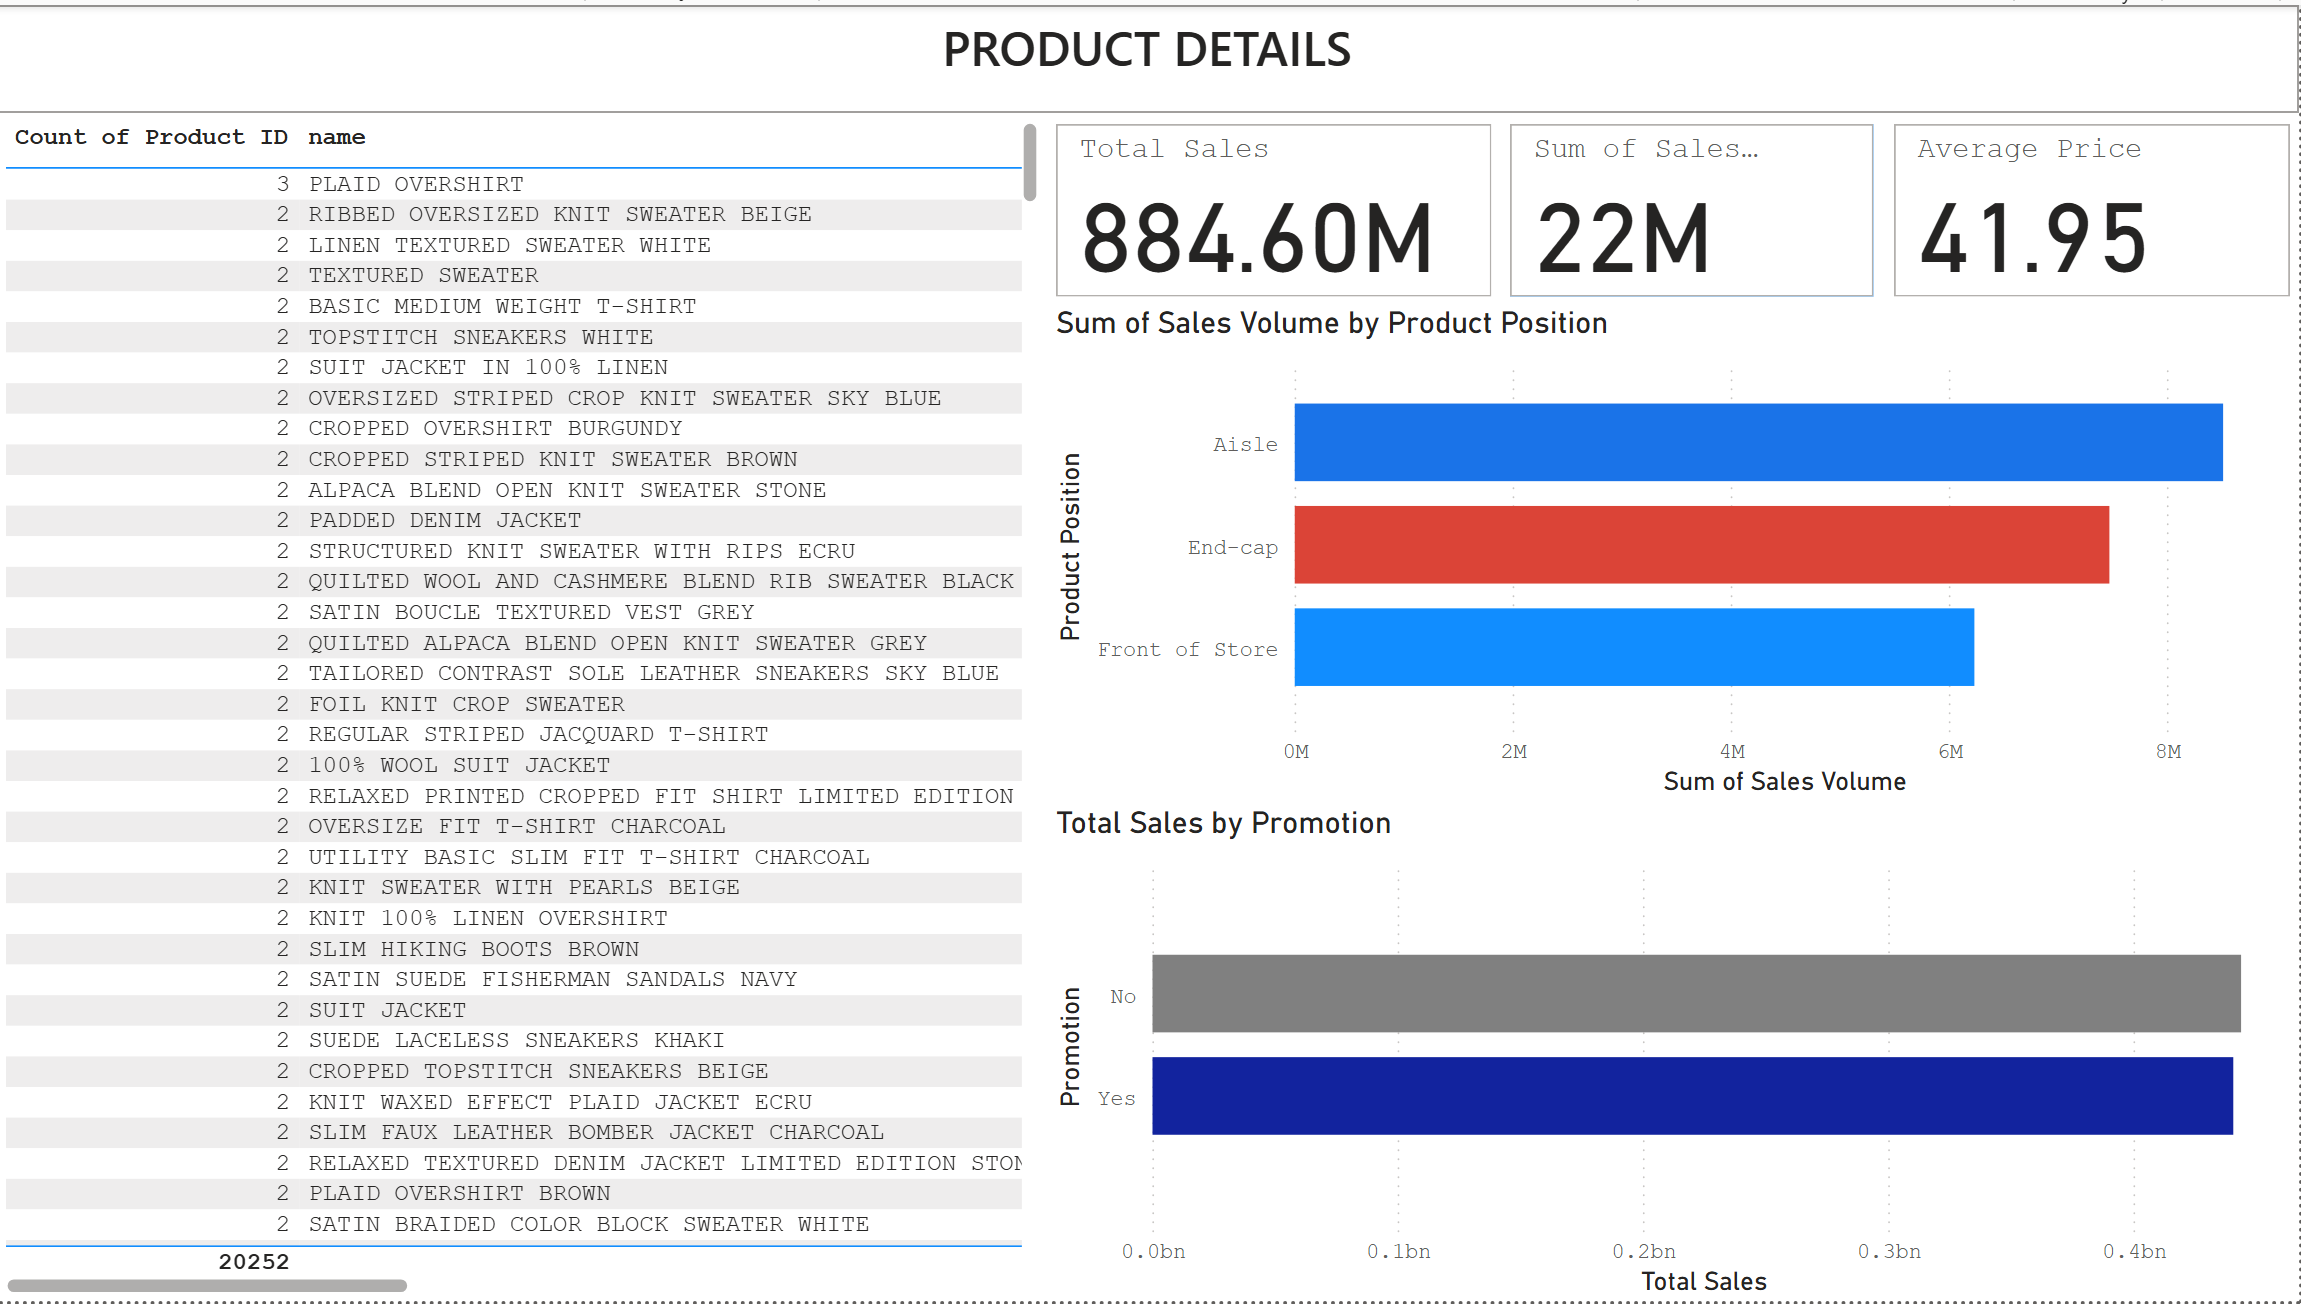

What the dashboard file says about the page in this screenshot:
{"tool":"powerbi","page":{"name":"PRODUCT DETAILS","canvas":[1280,720],"ordinal":0},"visuals":[{"type":"textbox","box":[0,0,1280,60.1],"z":2000},{"type":"cardVisual","fields":{"Data":["Sales.Total Sales"]},"box":[584.3,60.7,252.5,106.5],"z":3000},{"type":"cardVisual","fields":{"Data":["Sales.Average Price"]},"box":[1049.7,60.7,230.3,106.5],"z":4000},{"type":"tableEx","fields":{"Values":["CountNonNull(Sales.Product ID)","Sales.name","Sales.Product Category","Sales.brand","Sales.Product Position","Sales.Promotion","Sum(Sales.price)","Sum(Sales.Sales Volume)","Sales.Total Sales"]},"box":[0,60.1,584.4,661.1],"z":5000},{"type":"cardVisual","fields":{"Data":["Sum(Sales.Sales Volume)"]},"box":[836.8,60.7,212.9,106.5],"z":6000},{"type":"barChart","fields":{"Y":["Sum(Sales.Sales Volume)"],"Category":["Sales.Product Position"]},"box":[584.3,167.1,695.7,277.3],"z":7000},{"type":"barChart","fields":{"Y":["Sales.Total Sales"],"Category":["Sales.Promotion"]},"box":[584.3,444.4,695.7,277.3],"z":8000}]}

Visuals, with their boxes in screenshot pixels (x1, y1, x2, y2), scaled from the page's 1280x720 canvas onto the 2301x1304 screenshot:
textbox: (0, 0, 2300, 109)
cardVisual - Sales.Total Sales: (1050, 110, 1504, 303)
cardVisual - Sales.Average Price: (1887, 110, 2300, 303)
tableEx - CountNonNull(Sales.Product ID) x Sales.name: (0, 109, 1051, 1303)
cardVisual - Sum(Sales.Sales Volume): (1504, 110, 1887, 303)
barChart - Sum(Sales.Sales Volume) x Sales.Product Position: (1050, 303, 2300, 805)
barChart - Sales.Total Sales x Sales.Promotion: (1050, 805, 2300, 1303)
